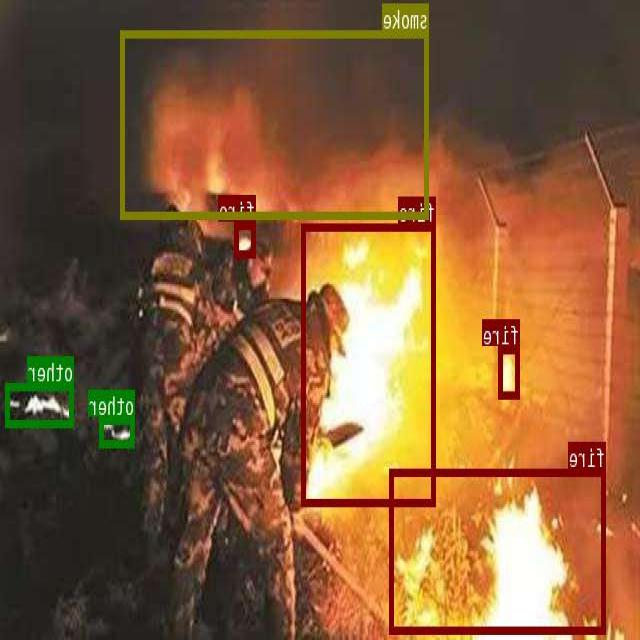fire: (303, 222, 437, 506), (390, 468, 606, 632), (499, 346, 521, 398), (236, 221, 256, 256)
other: (6, 383, 75, 426), (100, 416, 136, 446)
smoke: (122, 30, 429, 217)
